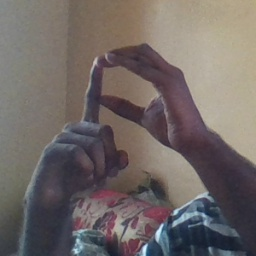P: (32, 42, 200, 185)
